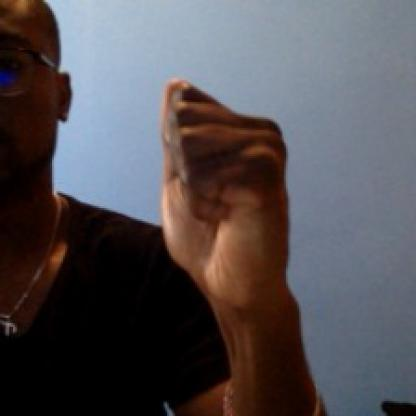BACKWARD: (161, 80, 310, 324)
